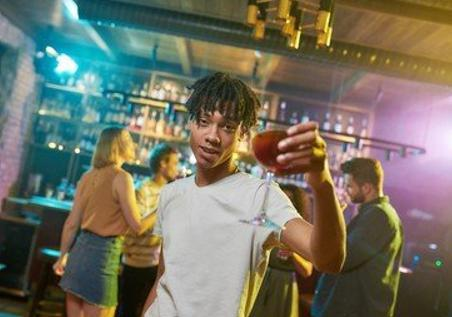Drunk: (192, 99, 240, 167)
